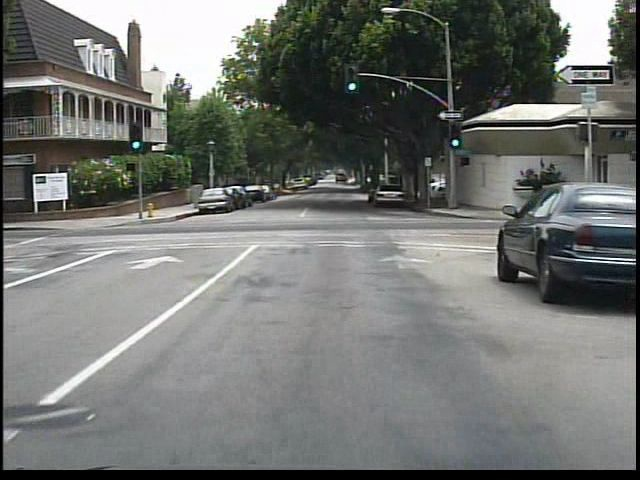person: (528, 170, 556, 220)
